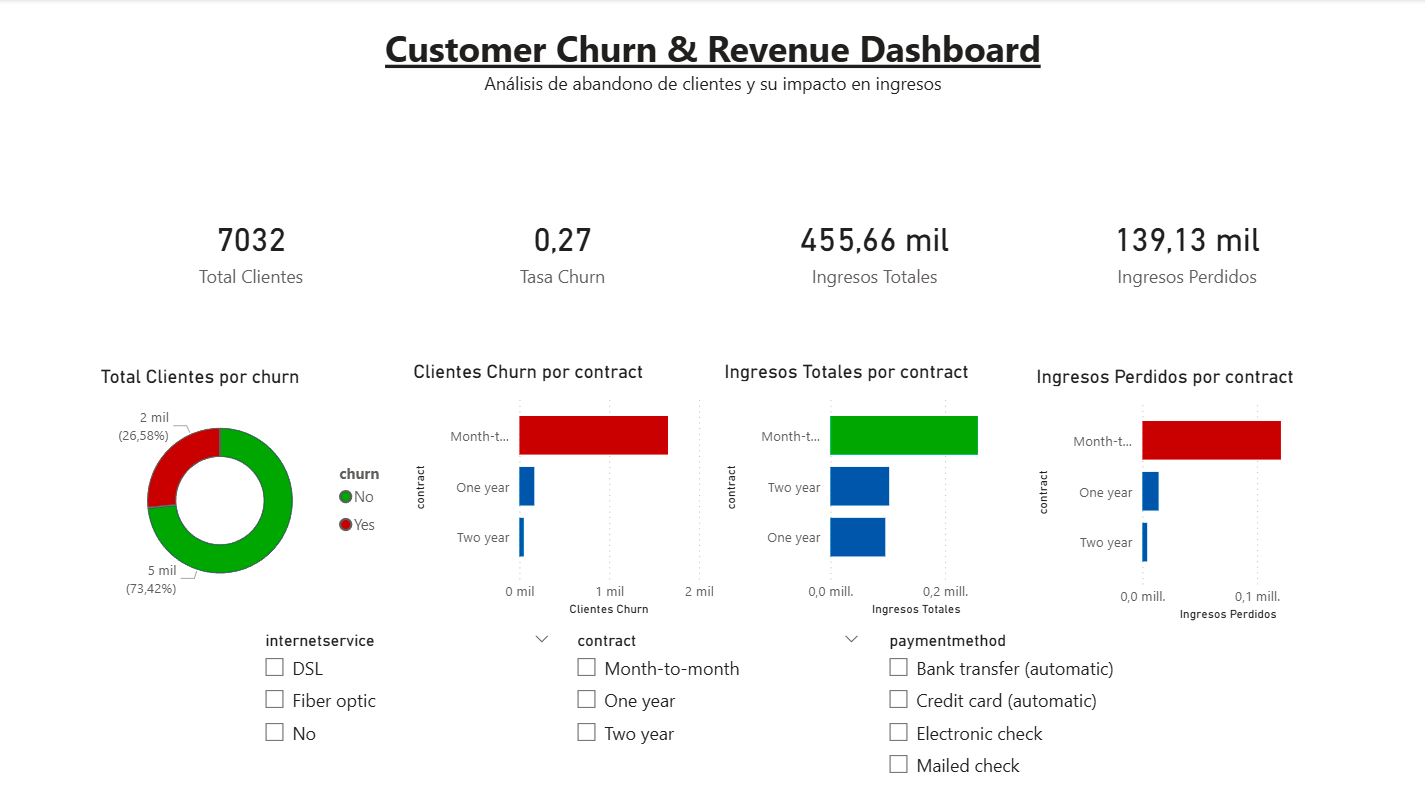

The dashboard page shown, as its layout file describes it:
{"tool":"powerbi","page":{"name":"Resumen Ejecutivo","canvas":[1280,720],"ordinal":0},"visuals":[{"type":"card","fields":{"Values":["public customers.Total Clientes"]},"box":[85.6,120.6,280.1,208.1],"z":0},{"type":"card","fields":{"Values":["public customers.Tasa Churn"]},"box":[365.7,120.6,279.1,208.1],"z":1000},{"type":"card","fields":{"Values":["public customers.Ingresos Totales"]},"box":[644.9,120.6,281.1,208.1],"z":2000},{"type":"card","fields":{"Values":["public customers.Ingresos Perdidos"]},"box":[926,120.6,280.1,208.1],"z":3000},{"type":"donutChart","fields":{"Category":["public customers.churn"],"Y":["public customers.Total Clientes"]},"box":[85.6,328.5,280.3,224.5],"z":4000},{"type":"clusteredBarChart","fields":{"Category":["public customers.contract"],"Y":["public customers.Clientes Churn"]},"box":[365.9,324,279.2,234.6],"z":5000},{"type":"clusteredBarChart","fields":{"Category":["public customers.contract"],"Y":["public customers.Ingresos Perdidos"]},"box":[925.5,328.5,280.3,234.6],"z":6000},{"type":"clusteredBarChart","fields":{"Category":["public customers.contract"],"Y":["public customers.Ingresos Totales"]},"box":[645.2,324,280.3,234.6],"z":7000},{"type":"slicer","fields":{"Values":["public customers.contract"]},"box":[505.8,563.2,278.2,153.7],"z":8000},{"type":"slicer","fields":{"Values":["public customers.internetservice"]},"box":[225.7,563.2,280.1,153.7],"z":9000},{"type":"slicer","fields":{"Values":["public customers.paymentmethod"]},"box":[785.9,563.2,280.1,153.7],"z":10000},{"type":"textbox","box":[0,0,1280,120.6],"z":11000}]}

Visuals, with their boxes in screenshot pixels (x1, y1, x2, y2), scaled from the page's 1280x720 canvas onto the 1425x799 screenshot:
card - public customers.Total Clientes: bbox=[95, 134, 407, 365]
card - public customers.Tasa Churn: bbox=[407, 134, 718, 365]
card - public customers.Ingresos Totales: bbox=[718, 134, 1031, 365]
card - public customers.Ingresos Perdidos: bbox=[1031, 134, 1343, 365]
donutChart - public customers.churn x public customers.Total Clientes: bbox=[95, 365, 407, 614]
clusteredBarChart - public customers.contract x public customers.Clientes Churn: bbox=[407, 360, 718, 620]
clusteredBarChart - public customers.contract x public customers.Ingresos Perdidos: bbox=[1030, 365, 1342, 625]
clusteredBarChart - public customers.contract x public customers.Ingresos Totales: bbox=[718, 360, 1030, 620]
slicer - public customers.contract: bbox=[563, 625, 873, 796]
slicer - public customers.internetservice: bbox=[251, 625, 563, 796]
slicer - public customers.paymentmethod: bbox=[875, 625, 1187, 796]
textbox: bbox=[0, 0, 1424, 134]
